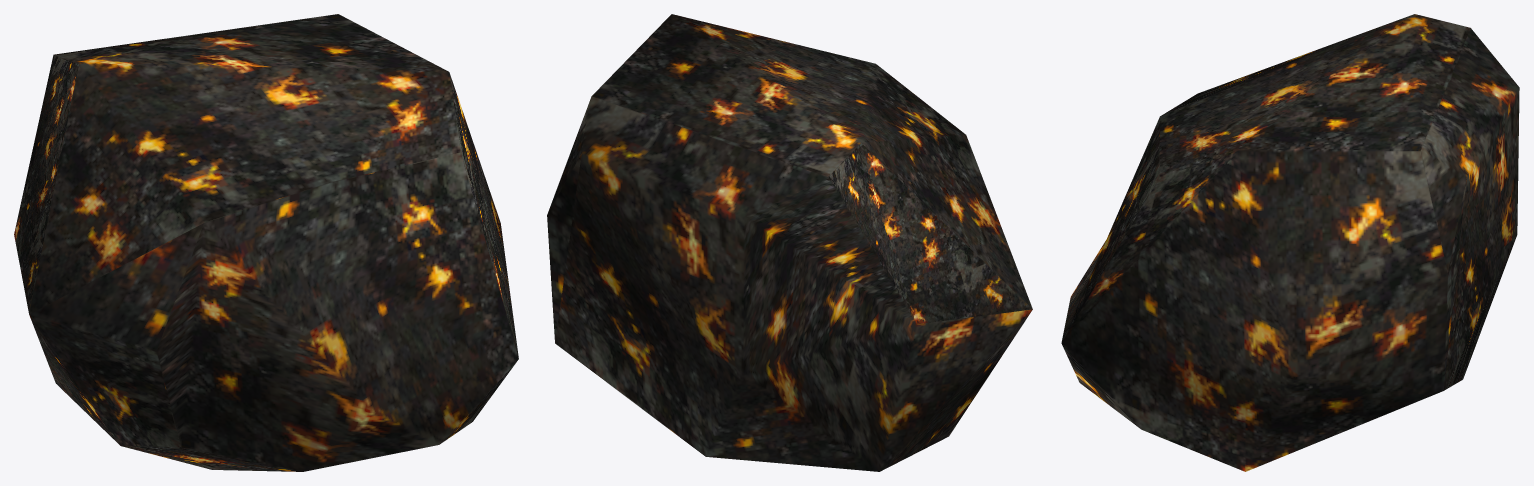
The model's file is asteroid_moltenrock_small_s02_l3.fbx.
The picture shows the model from 3 angles, left to right: view 1: azimuth 30°, elevation 25°; view 2: azimuth 150°, elevation 25°; view 3: azimuth 270°, elevation 25°; orthographic projection. The views are drawn at different scales.
Visible parts, largest first — view 1: mesh_node; view 2: mesh_node; view 3: mesh_node.
Boxes of the visible parts, x1,y1,x2,y2 form: mesh_node: [14, 14, 518, 471]; mesh_node: [547, 14, 1032, 471]; mesh_node: [1061, 14, 1519, 471].
Size of the model in its own units: 29.32 by 22.12 by 25.99.
1 material, 1 textured.
